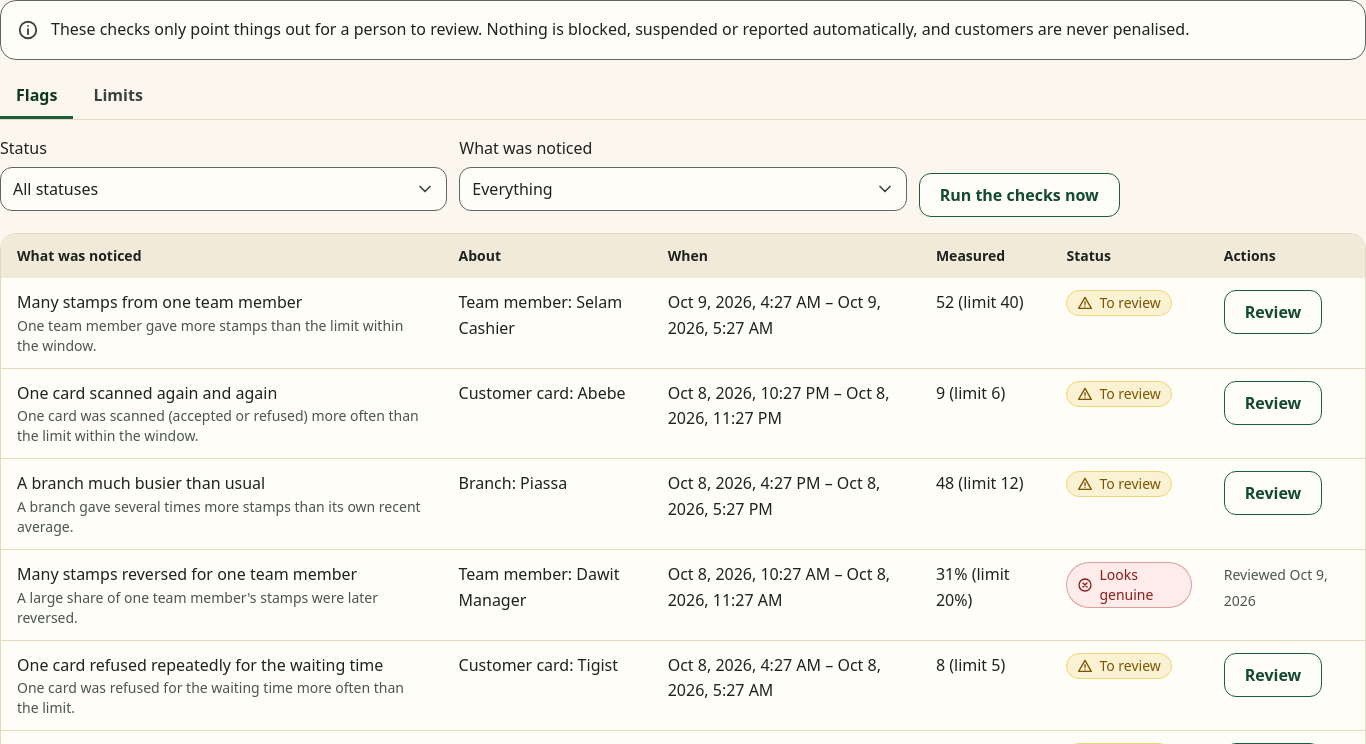
it: flags › explains a flag that someone else already reviewed, and a refusal
Click the 1st button "Review": coordinates (1273, 312) [1224,290,1322,334]
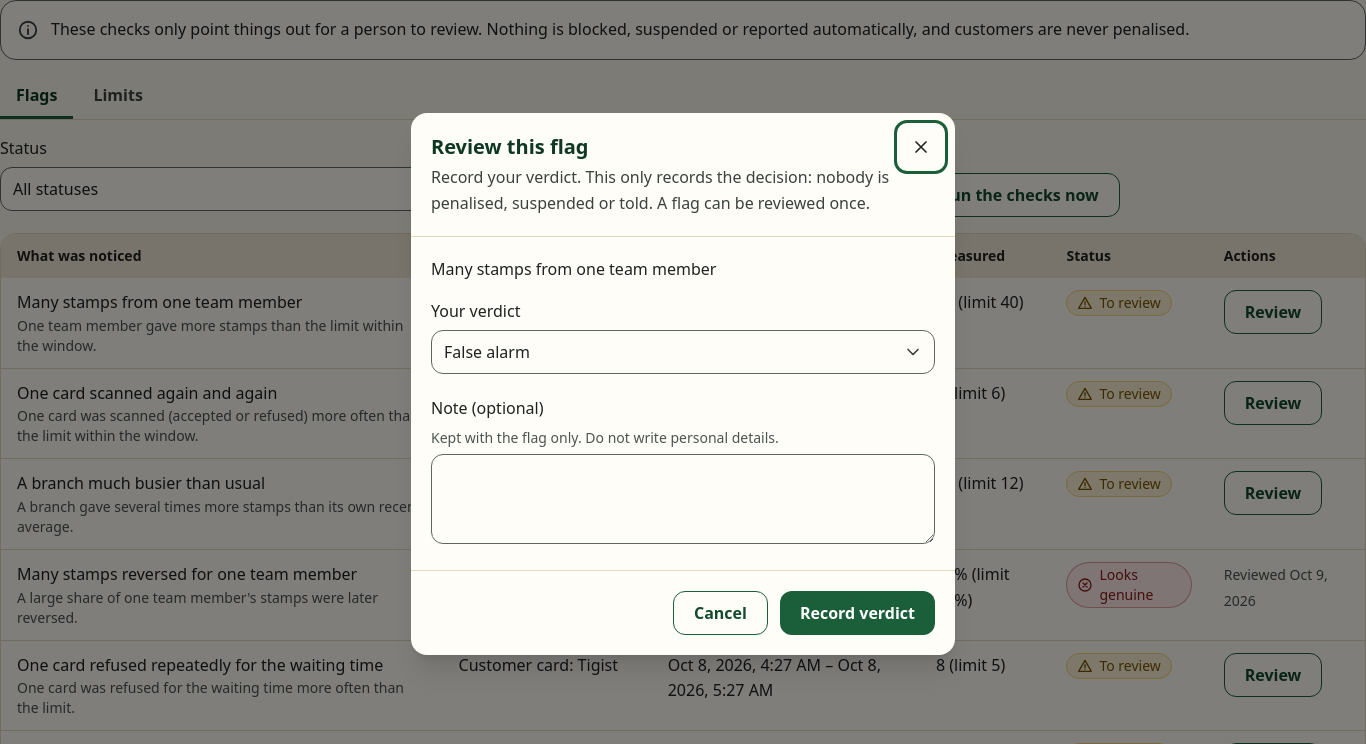
Click the button "Record verdict": coordinates (857, 613) [780,591,935,635]
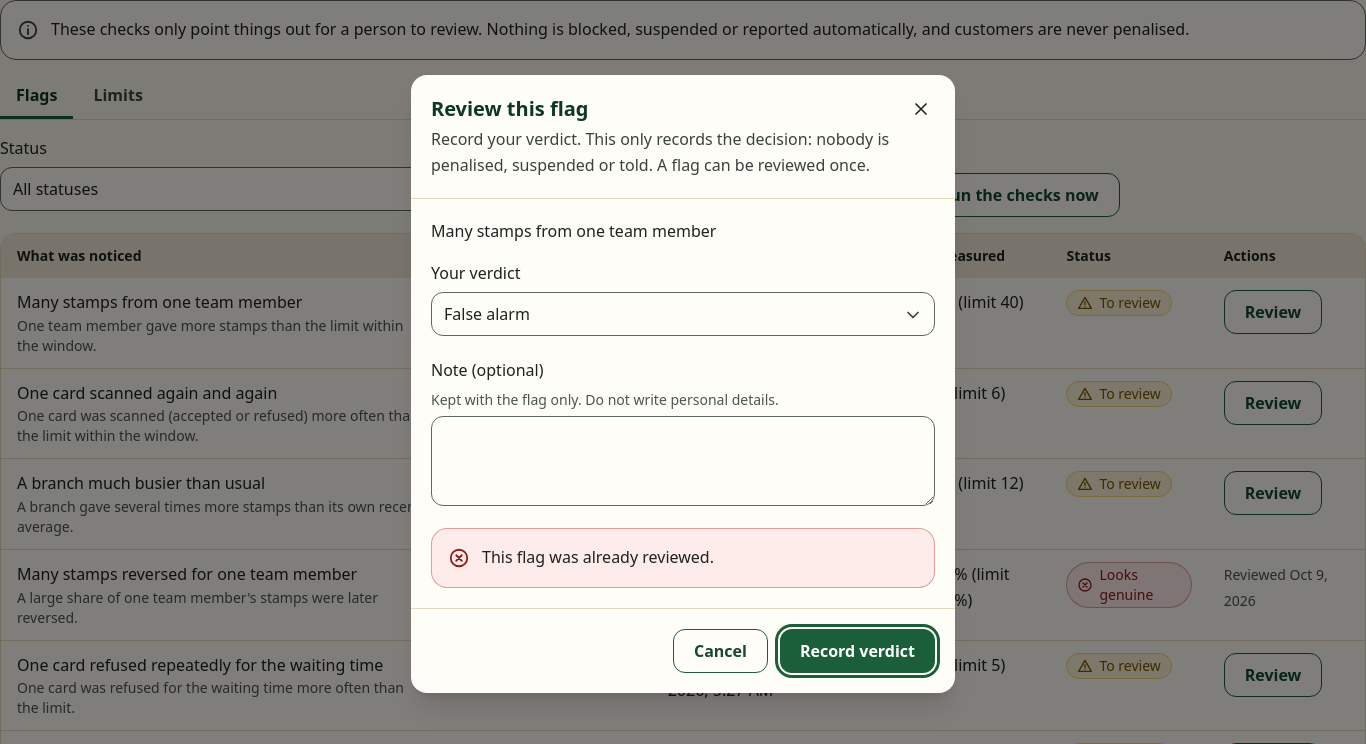
Expected: the text "This flag was already reviewed." is shown, [482,546,714,568]
Click the button "Record verdict": coordinates (857, 651) [780,629,935,673]
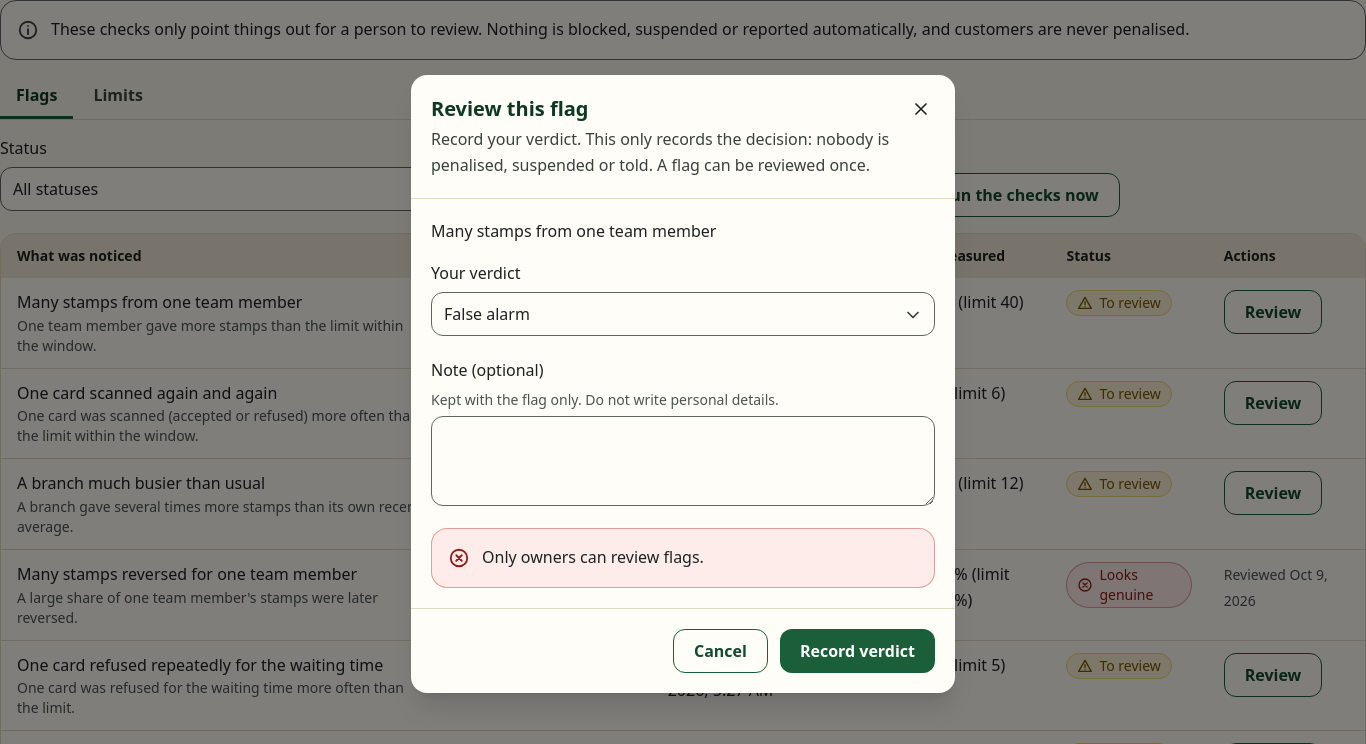
Expected: the text "Only owners can review flags." is shown, [482,546,704,568]
